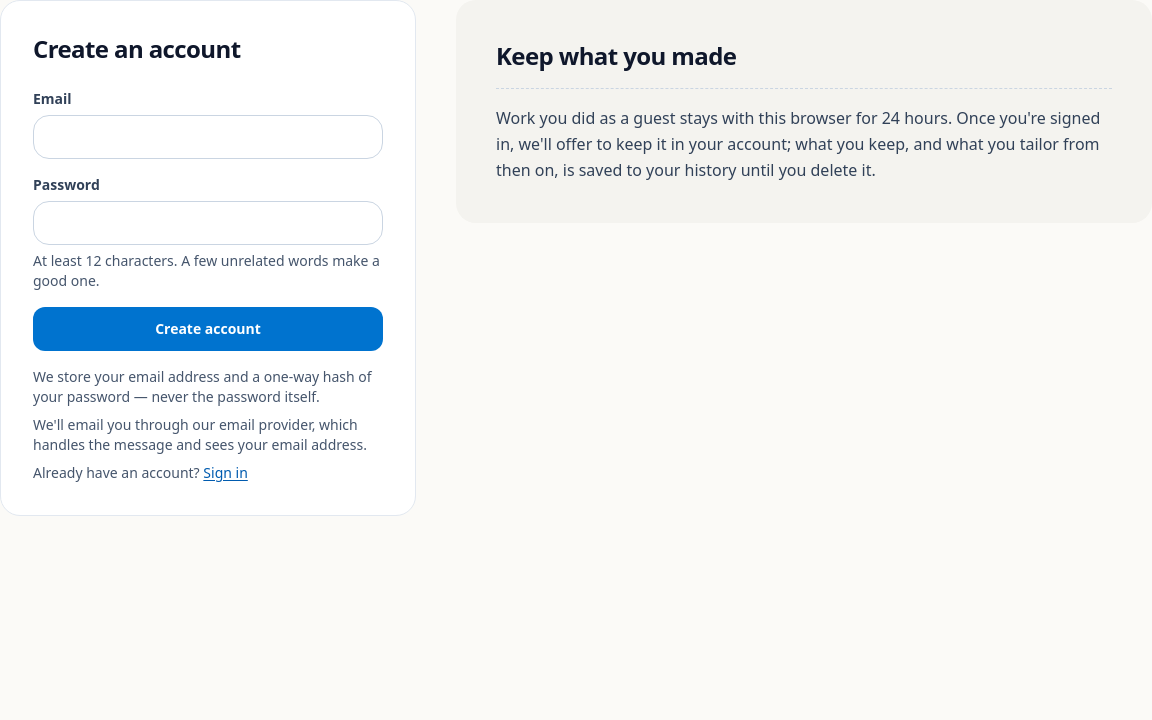
Scenario: RegisterPage › I-3 password_too_long: the alert carries the server's max_length number
Type "alex@example.com" into the field labelled "Email" at coordinates (208, 137), box 33,115 -> 383,159
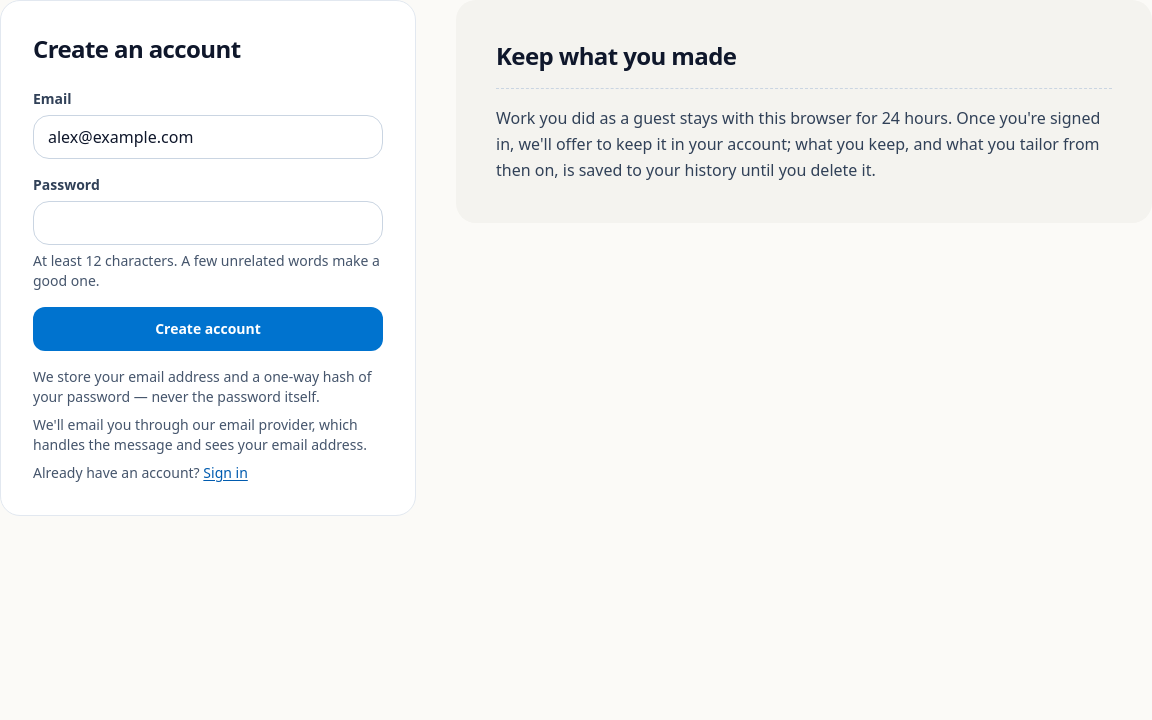
Type "a very long real password" into the password field labelled "Password" at coordinates (208, 223), box 33,201 -> 383,245
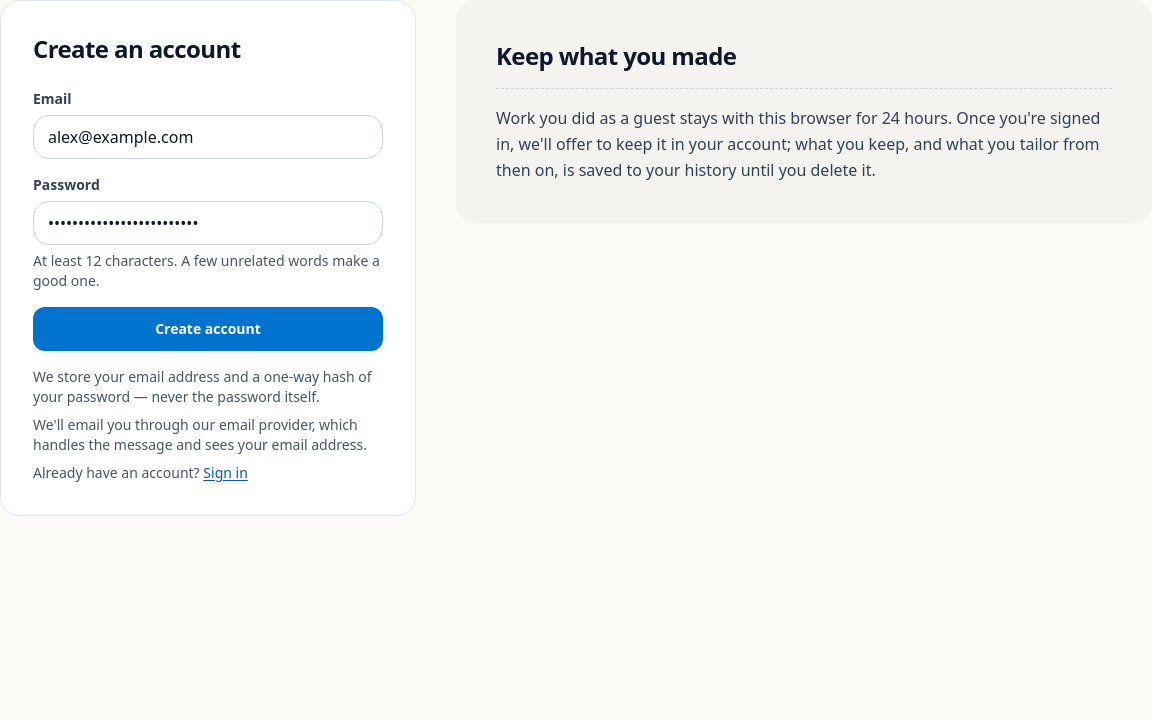
Click the button "Create account" at coordinates (208, 329), box 33,307 -> 383,351
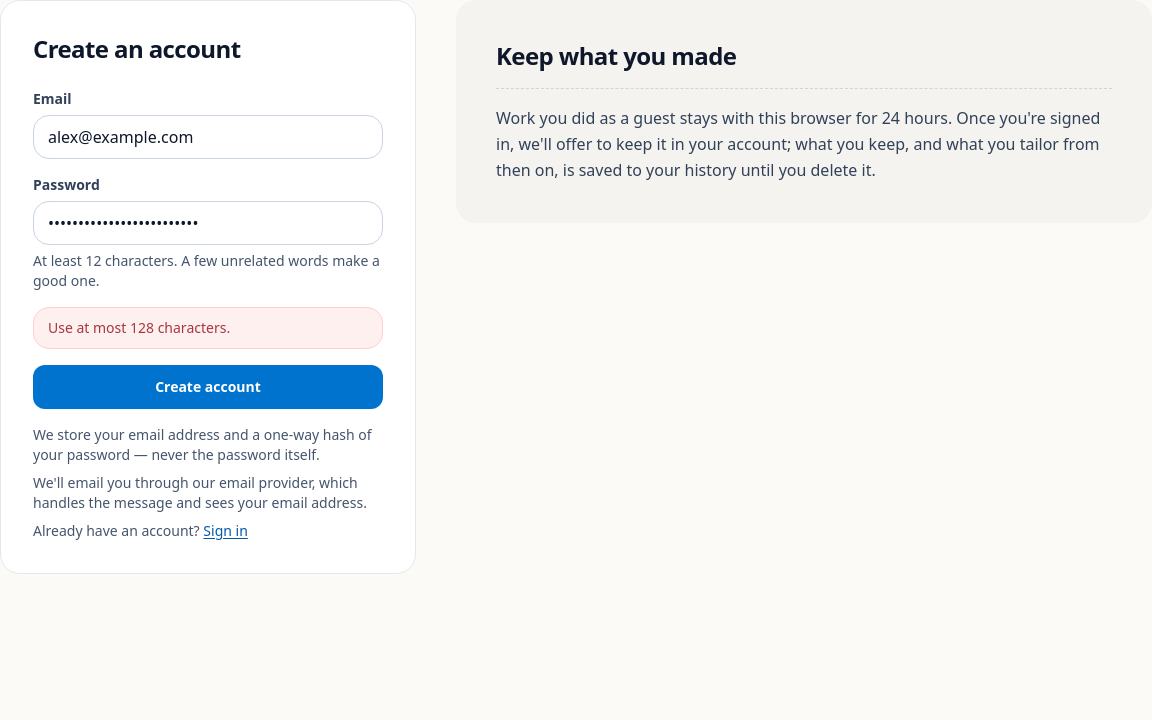
expect the message shows "128": met, box 48,318 -> 230,337
